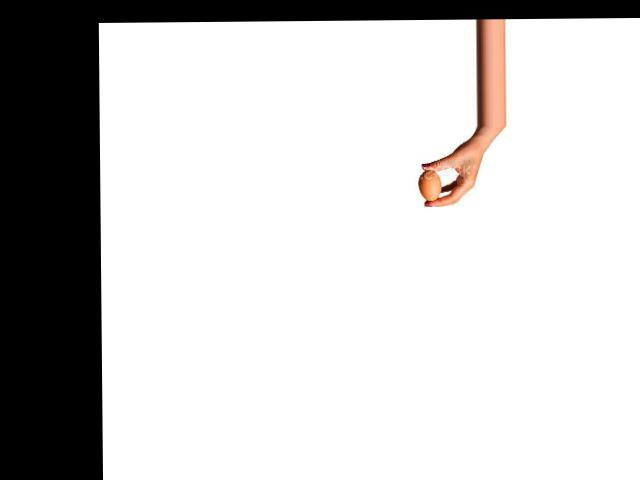egg: (419, 169, 441, 200)
